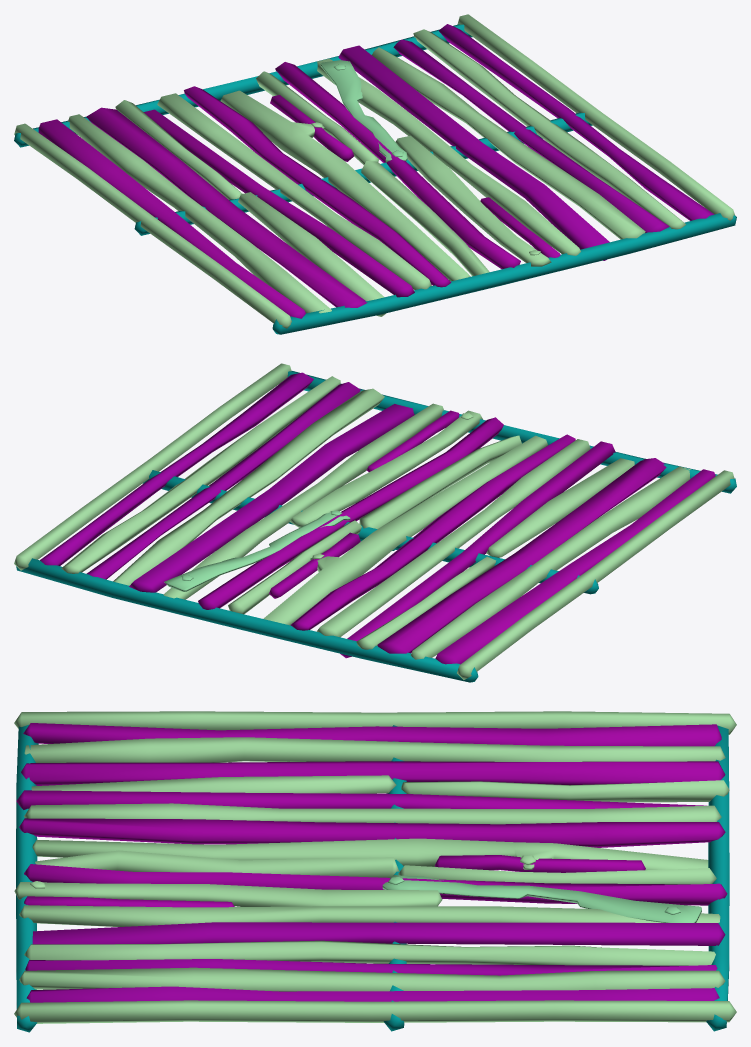
File: PBW_W1_Floor.glb
3 views of the same model, one above another, from view 1: azimuth 30°, elevation 25°; view 2: azimuth 150°, elevation 25°; view 3: azimuth 270°, elevation 25° (orthographic). The views are drawn at different scales.
Visible parts, largest first — view 1: PBW_W1_Floor; view 2: PBW_W1_Floor; view 3: PBW_W1_Floor.
Boxes of the visible parts, left/top/right/bottom form: PBW_W1_Floor: left=14, top=14, right=736, bottom=334; PBW_W1_Floor: left=14, top=363, right=736, bottom=682; PBW_W1_Floor: left=14, top=711, right=736, bottom=1032.
Size of the model in its own units: 5.17 by 0.2809 by 5.22.
